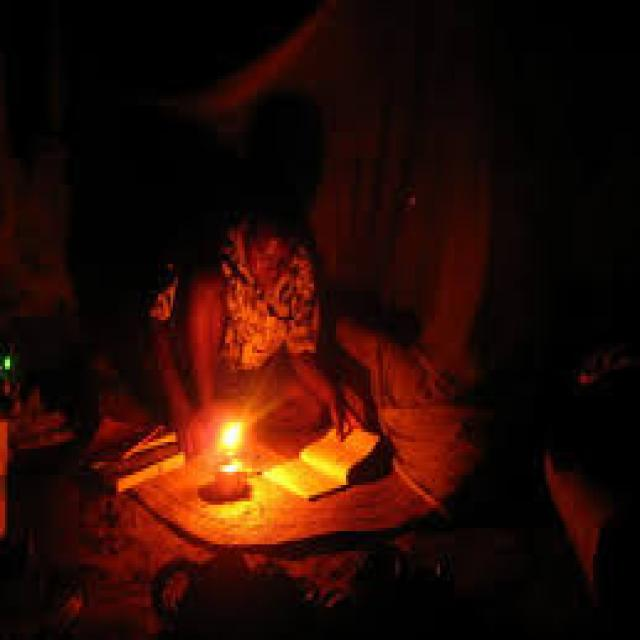fire: (215, 417, 249, 462)
